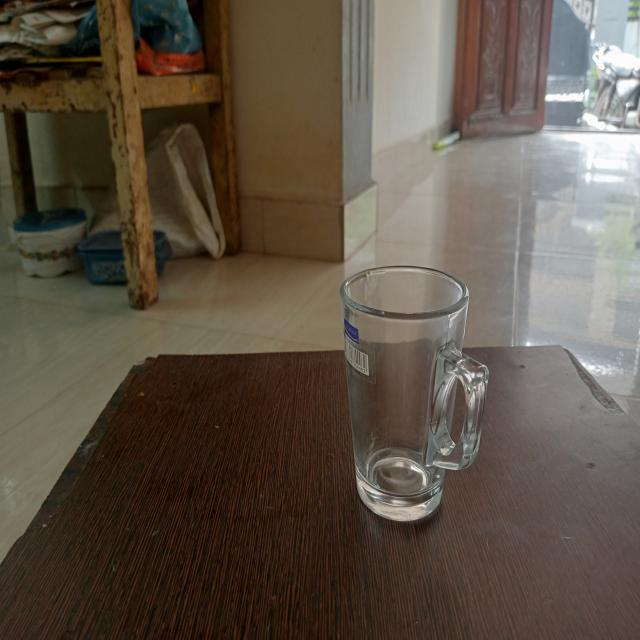glass-VX4N: (340, 262, 491, 534)
